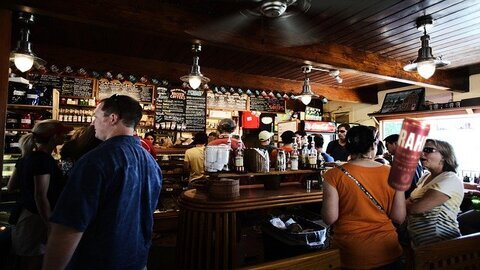duplo_malte: (369, 118, 441, 190)
